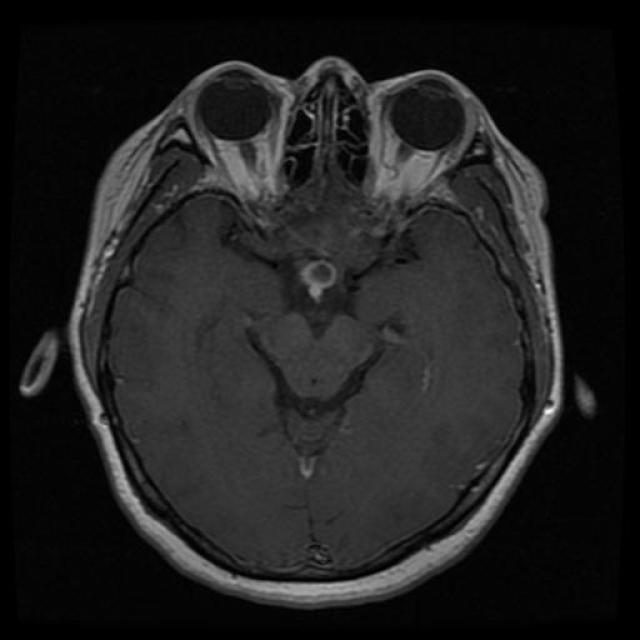pituitary: (298, 236, 350, 310)
